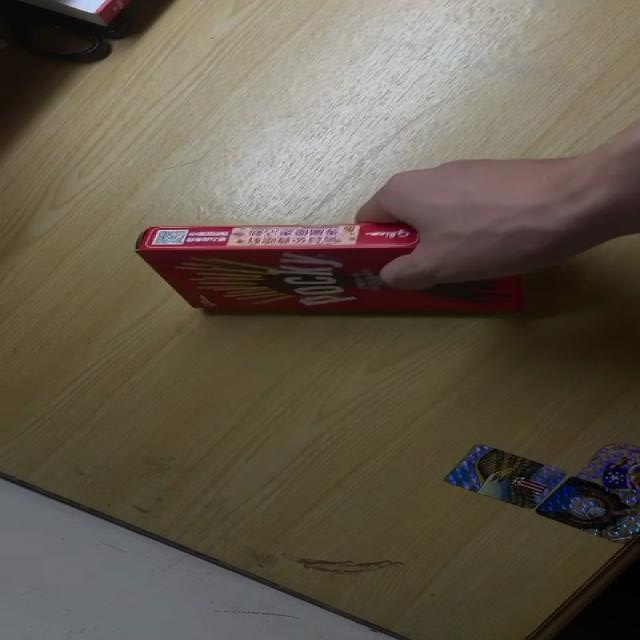Pocky: (134, 222, 541, 311)
